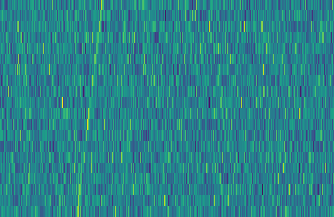signal: (70, 0, 105, 217)
